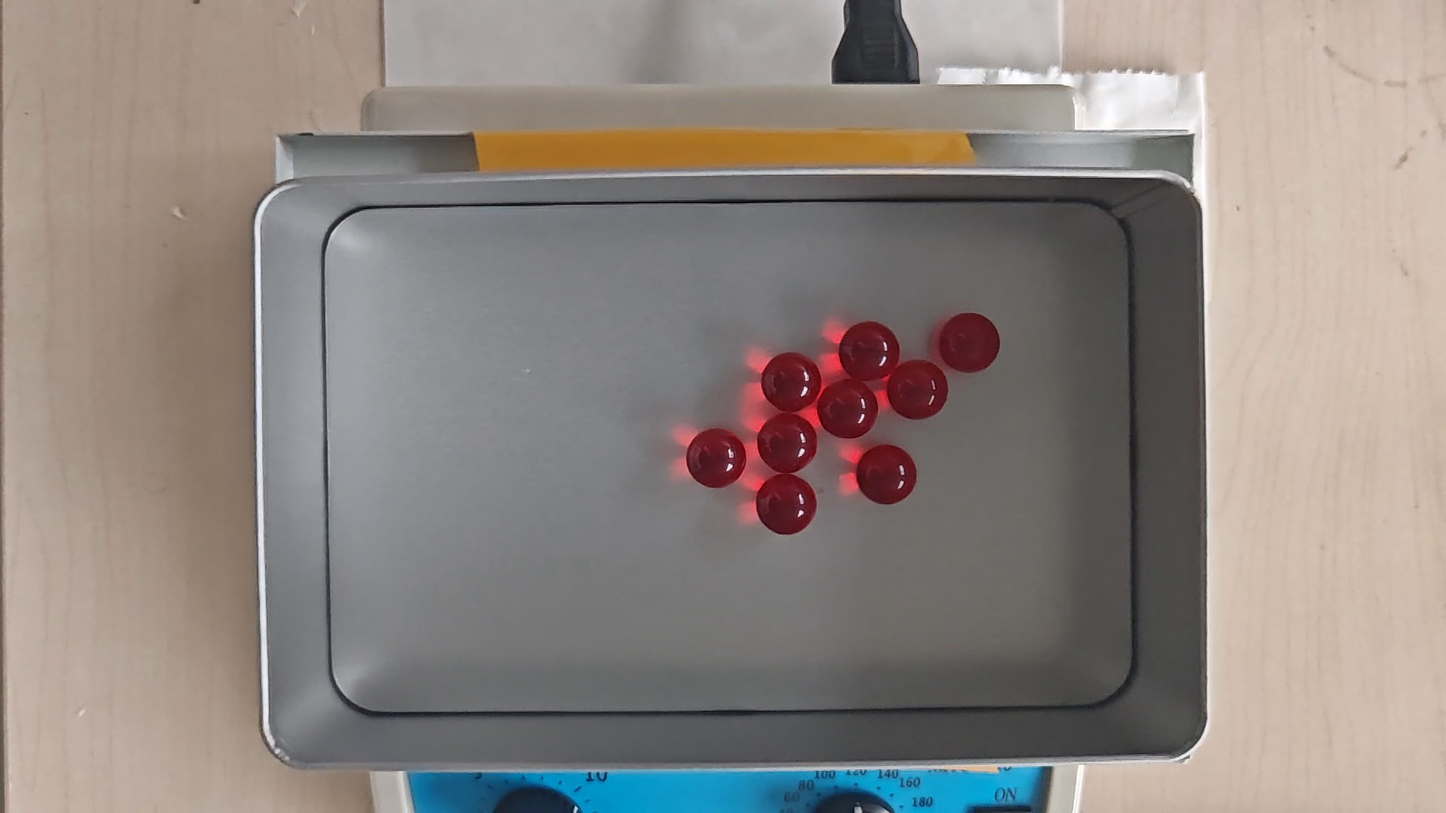ball: (818, 379, 879, 440), (857, 443, 917, 505), (756, 474, 816, 536), (686, 428, 746, 489), (940, 312, 1000, 373), (839, 321, 900, 381), (888, 360, 947, 421), (757, 414, 817, 473), (761, 352, 819, 412)
container: (326, 200, 1133, 713)
